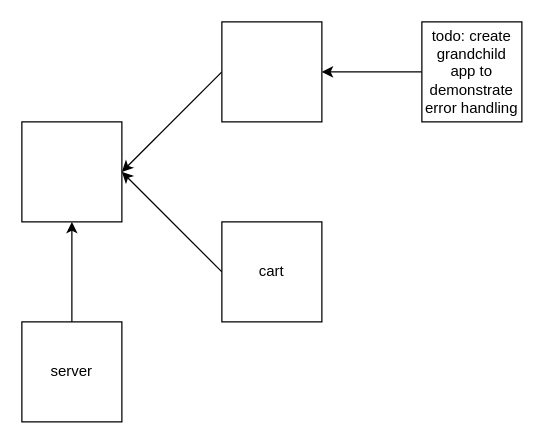
Some shapes in this 544 by 444 pixel diagram are drawn without their labels. The centre of each missing label's shape, as x and y in pixels:
home: point (71, 171)
pdp: point (271, 71)
